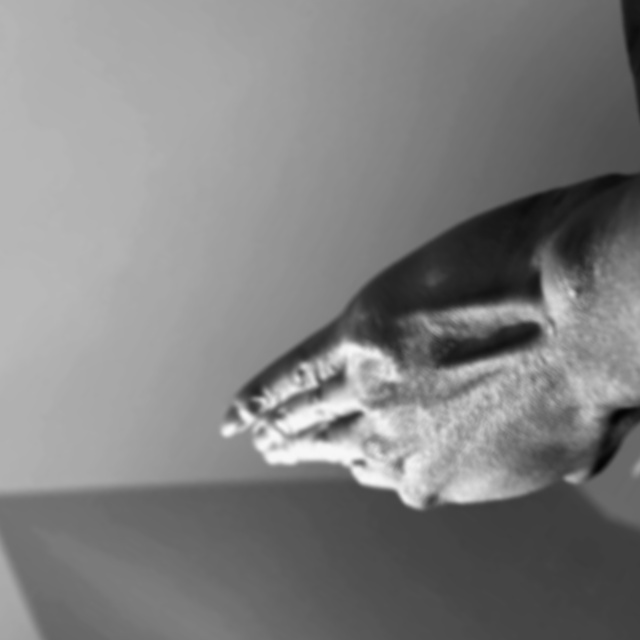Paper: (202, 69, 640, 632)
